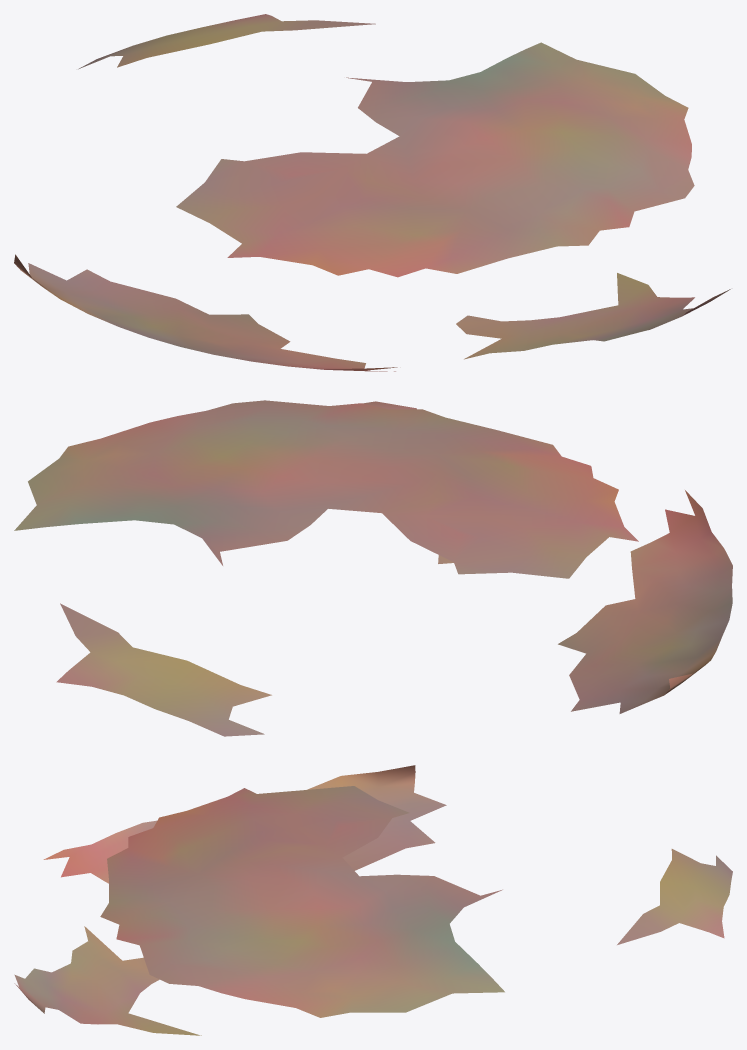
File: space-galaxies-irregular-galaxy_v21.glb
The picture shows the model from 3 angles, top to bottom: view 1: azimuth 30°, elevation 25°; view 2: azimuth 150°, elevation 25°; view 3: azimuth 270°, elevation 25°; orthographic projection. The views are drawn at different scales.
Visible parts, largest first — view 1: Irregular Galaxy_v21; view 2: Irregular Galaxy_v21; view 3: Irregular Galaxy_v21.
Part boxes in pixels (x1,y1,x2,y2): Irregular Galaxy_v21: (14,14,730,371); Irregular Galaxy_v21: (14,400,732,736); Irregular Galaxy_v21: (14,765,732,1035).
Bounding box in the file's own units: 0.4671 × 0.0796 × 0.5.
